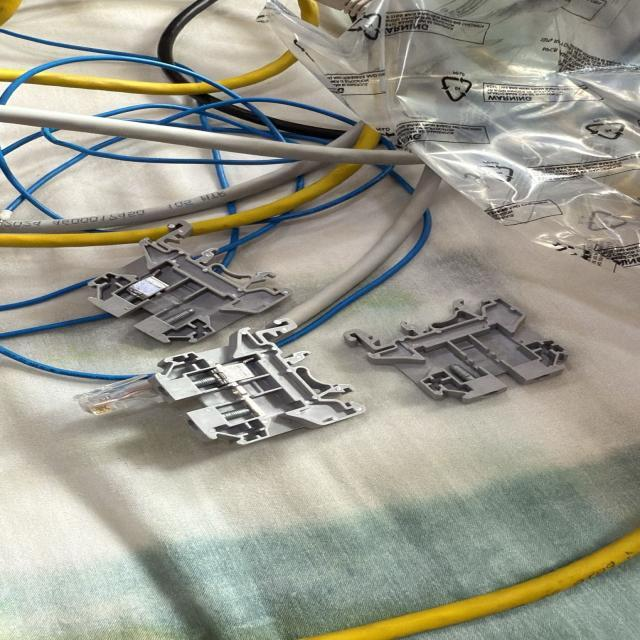Reject: (156, 320, 357, 445), (92, 220, 290, 344), (347, 300, 569, 402)
